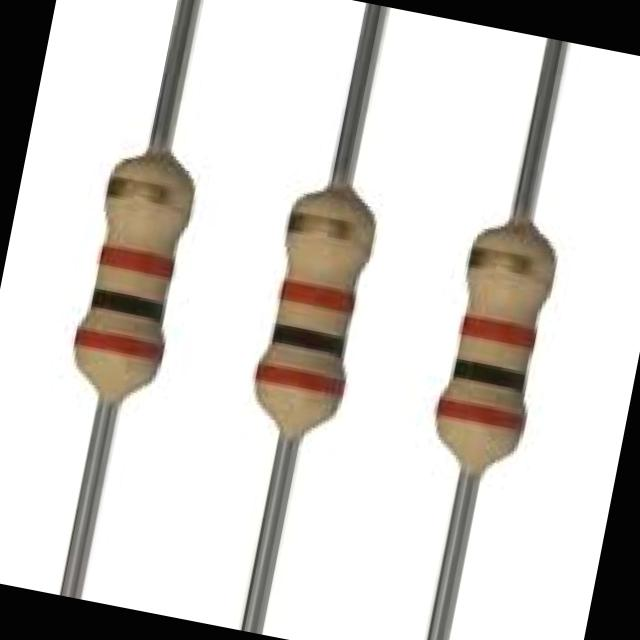Resistor: (255, 175, 376, 446), (436, 216, 556, 478), (75, 151, 195, 404)
black: (265, 326, 354, 356), (448, 357, 526, 389), (88, 289, 167, 319)
gold: (99, 177, 201, 215), (462, 244, 564, 280), (280, 212, 379, 243)
red: (251, 363, 354, 397), (432, 396, 534, 430), (451, 313, 542, 349), (73, 326, 164, 360), (94, 244, 175, 273), (277, 280, 354, 308)
